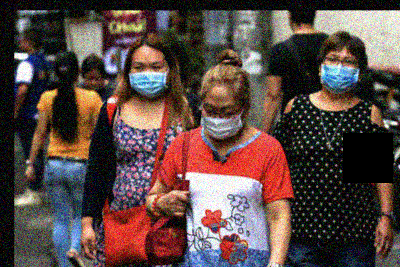with_mask: (200, 100, 245, 140), (129, 57, 171, 97), (321, 52, 361, 94)
without_mask: (83, 74, 103, 91)
